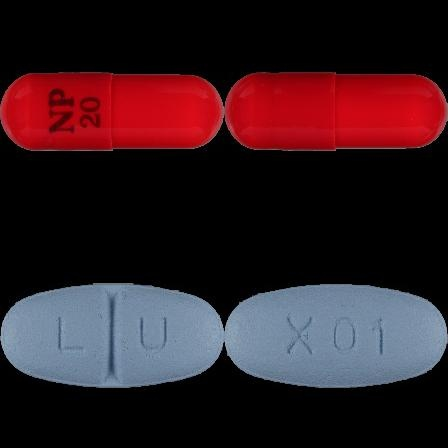50436-5559: (0, 0, 224, 224)
